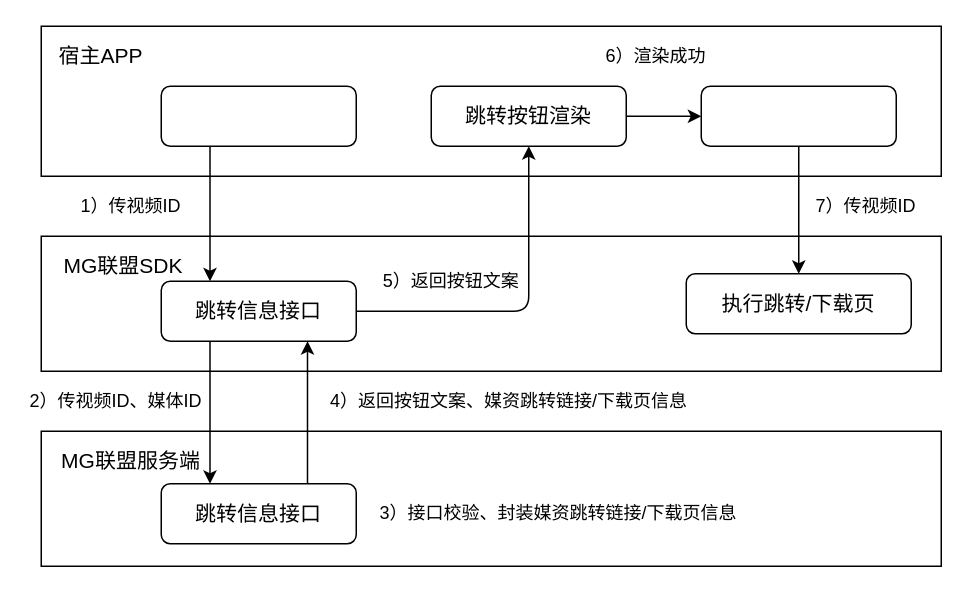
This 968x593 diagram has some shape labels left out. The centre of each missing label's shape, as x and y in pixels:
播放页渲染: [258,115]
点击动作: [798,115]
